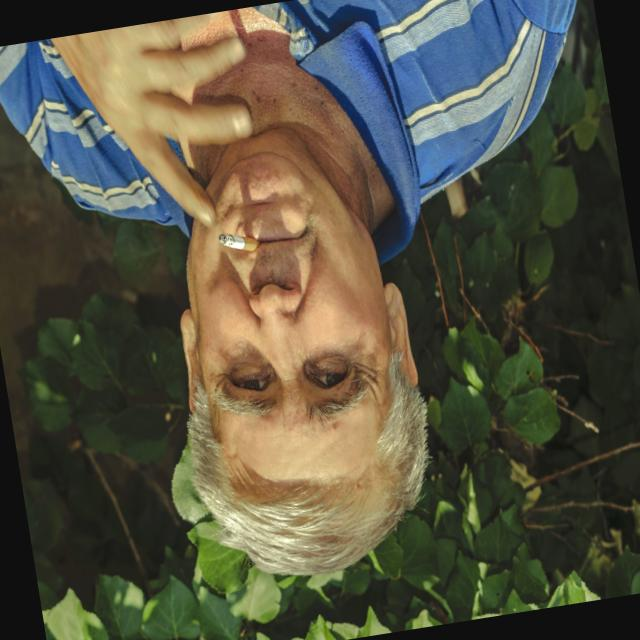cigarette: (215, 218, 263, 262)
